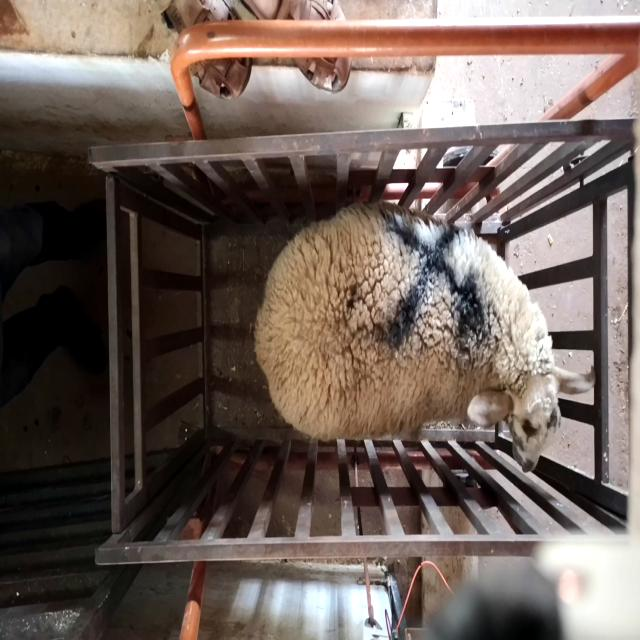sheep: (254, 201, 595, 472)
